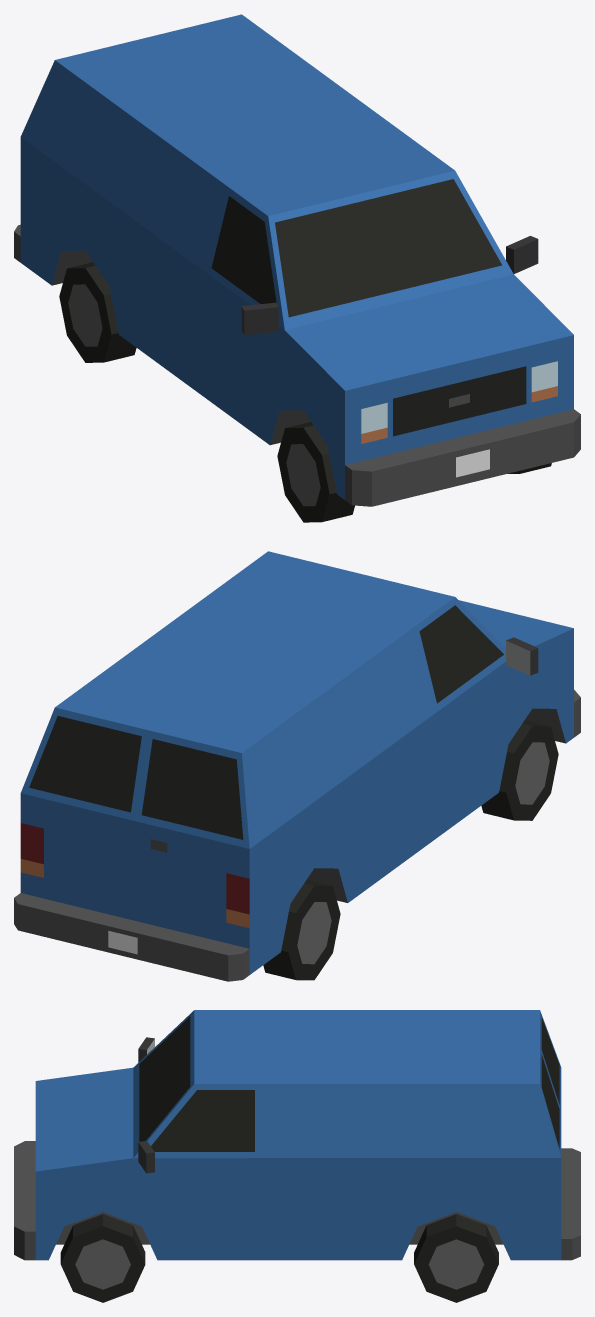
File: Veh_Van_01_Blue.glb
3 renders of one model, top to bottom at view 1: azimuth 30°, elevation 25°; view 2: azimuth 150°, elevation 25°; view 3: azimuth 270°, elevation 25°, orthographic. The views are drawn at different scales.
Visible parts, largest first — view 1: Van_01_Blue, Wheel_FR, Wheel_RR; view 2: Van_01_Blue, Wheel_RR, Wheel_FR; view 3: Van_01_Blue, Wheel_FL, Wheel_RL.
Boxes of the visible parts, left/top/right/bottom form: Van_01_Blue: left=14, top=14, right=580, bottom=506; Wheel_FR: left=277, top=422, right=354, bottom=522; Wheel_RR: left=59, top=262, right=136, bottom=362; Van_01_Blue: left=14, top=551, right=580, bottom=981; Wheel_RR: left=263, top=879, right=340, bottom=980; Wheel_FR: left=481, top=720, right=558, bottom=820; Van_01_Blue: left=14, top=1010, right=580, bottom=1260; Wheel_FL: left=60, top=1214, right=145, bottom=1302; Wheel_RL: left=414, top=1214, right=498, bottom=1302.
Size of the model in its own units: 1.38 by 1.16 by 2.84.
1 material, 1 textured.
